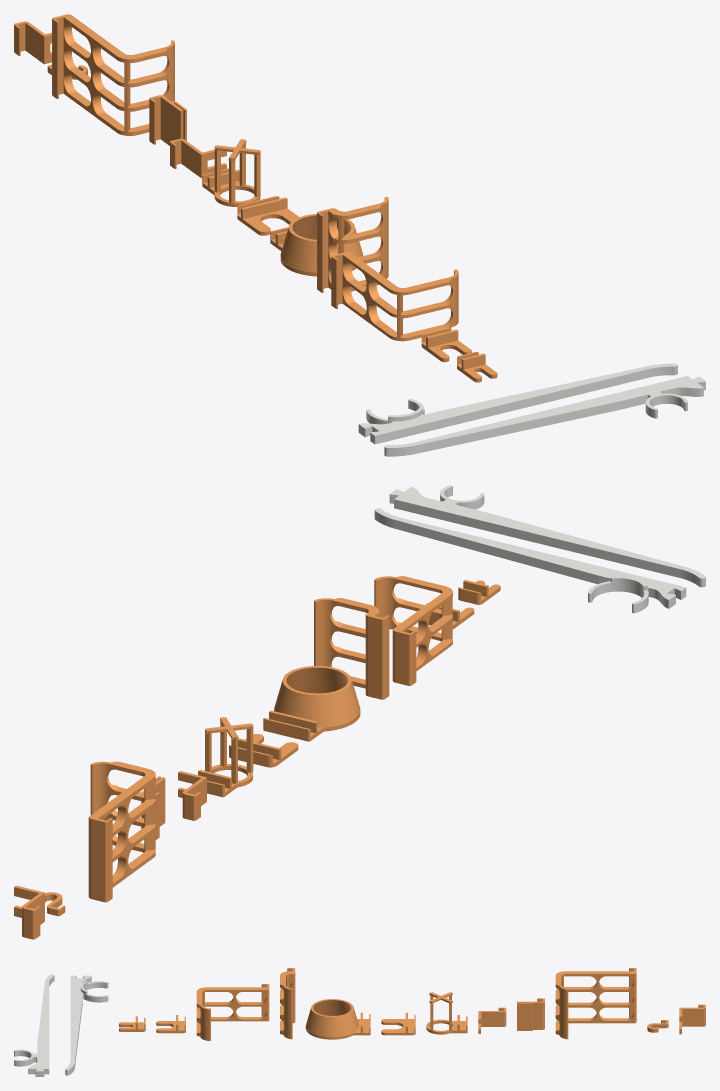
The model's file is bathroom_trazo_piezas.glb.
3 renders of one model, top to bottom at view 1: azimuth 30°, elevation 25°; view 2: azimuth 150°, elevation 25°; view 3: azimuth 270°, elevation 25°, orthographic. The views are drawn at different scales.
Visible parts, largest first — view 1: jinete_colonia_bajo, trazo_derecha, trazo_izquierda, jinete_desodorante, jinete_colonia, jinete_secador, jinete_oralb, jinete_pasta_bajo, jinete_pelo, jinete_cepillo_bajo, jinete_oralb_bajo, jinete_pasta (+1 smaller); view 2: jinete_colonia_bajo, trazo_izquierda, trazo_derecha, jinete_secador, jinete_desodorante, jinete_colonia, jinete_oralb, jinete_oralb_bajo, jinete_pelo, jinete_cepillo_bajo, jinete_cepillo; view 3: jinete_colonia_bajo, jinete_secador, jinete_desodorante, trazo_derecha, trazo_izquierda, jinete_colonia, jinete_pasta_bajo, jinete_oralb, jinete_oralb_bajo, jinete_pelo, jinete_cepillo_bajo, jinete_pasta (+1 smaller).
Part boxes in pixels (bbox=[...]): jinete_colonia_bajo: bbox=[52, 14, 174, 135]; trazo_derecha: bbox=[358, 363, 677, 444]; trazo_izquierda: bbox=[384, 376, 705, 456]; jinete_desodorante: bbox=[331, 252, 458, 341]; jinete_colonia: bbox=[317, 197, 388, 292]; jinete_secador: bbox=[270, 214, 363, 276]; jinete_oralb: bbox=[202, 139, 260, 206]; jinete_pasta_bajo: bbox=[149, 95, 186, 145]; jinete_pelo: bbox=[237, 196, 299, 235]; jinete_cepillo_bajo: bbox=[170, 139, 226, 178]; jinete_oralb_bajo: bbox=[14, 21, 51, 64]; jinete_pasta: bbox=[421, 328, 471, 362]; jinete_colonia_bajo: bbox=[88, 761, 155, 902]; trazo_izquierda: bbox=[389, 485, 705, 587]; trazo_derecha: bbox=[374, 508, 686, 613]; jinete_secador: bbox=[263, 666, 360, 741]; jinete_desodorante: bbox=[374, 576, 452, 685]; jinete_colonia: bbox=[314, 598, 389, 699]; jinete_oralb: bbox=[192, 717, 253, 797]; jinete_oralb_bajo: bbox=[14, 885, 44, 939]; jinete_pelo: bbox=[229, 734, 298, 767]; jinete_cepillo_bajo: bbox=[178, 771, 206, 820]; jinete_cepillo: bbox=[458, 580, 500, 604]; jinete_colonia_bajo: bbox=[555, 968, 636, 1039]; jinete_secador: bbox=[305, 999, 370, 1039]; jinete_desodorante: bbox=[196, 984, 269, 1040]; trazo_derecha: bbox=[65, 975, 108, 1075]; trazo_izquierda: bbox=[14, 974, 54, 1076]; jinete_colonia: bbox=[280, 968, 295, 1039]; jinete_pasta_bajo: bbox=[517, 998, 544, 1030]; jinete_oralb: bbox=[426, 992, 467, 1034]; jinete_oralb_bajo: bbox=[679, 1004, 705, 1034]; jinete_pelo: bbox=[381, 1012, 415, 1035]; jinete_cepillo_bajo: bbox=[478, 1007, 506, 1033]; jinete_pasta: bbox=[156, 1015, 185, 1033].
Size of the model in its own units: 0.3032 by 0.072 by 0.9136.
